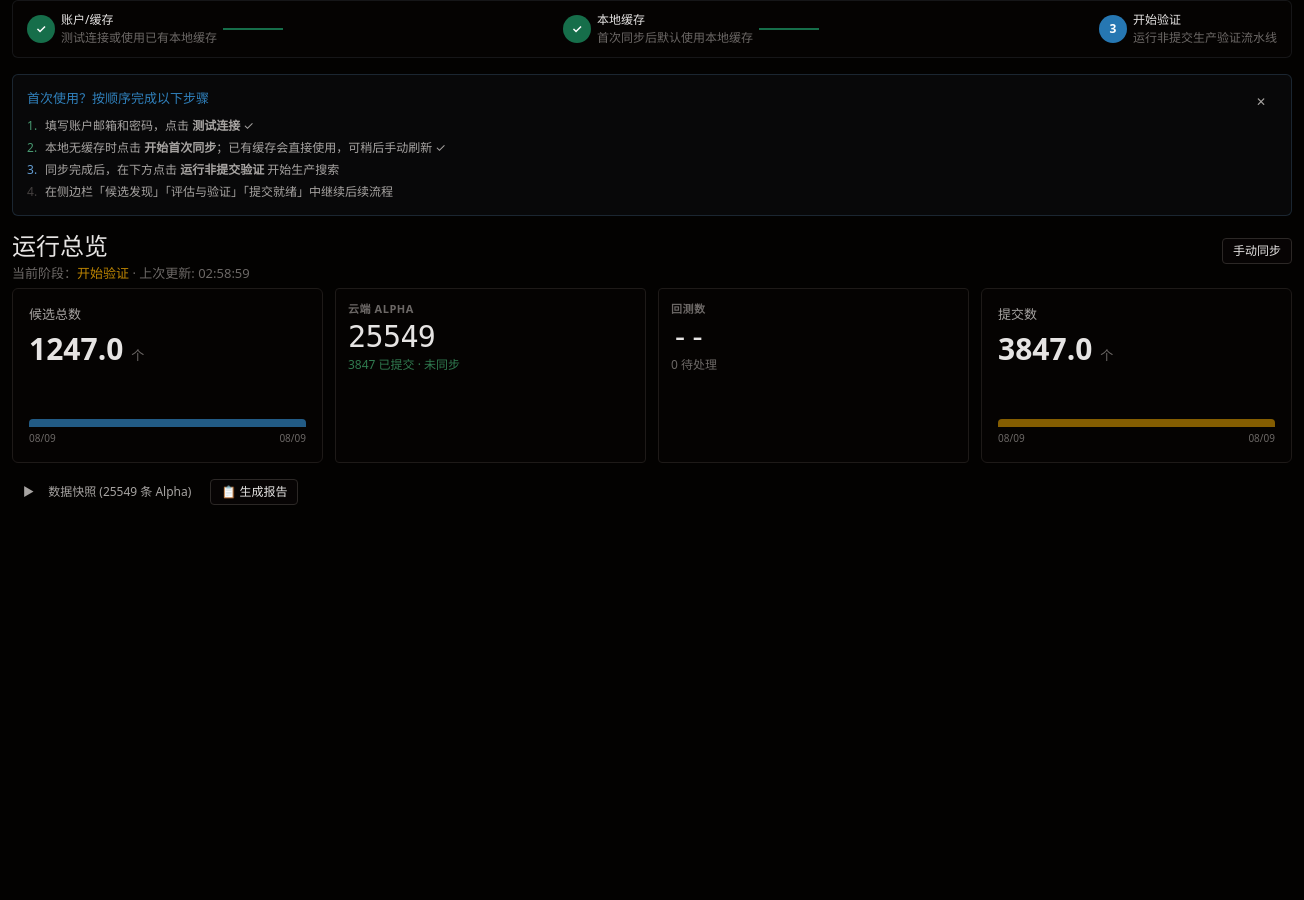
Test: Dashboard 流程集成测试 › 测试趋势图表 - 展开后显示热门家族
Expected: the heading "运行总览" is shown, [12,228,108,262]
Click the button "▶ 数据快照 (25549 条 Alpha)" at (107, 492), box [12,479,202,505]
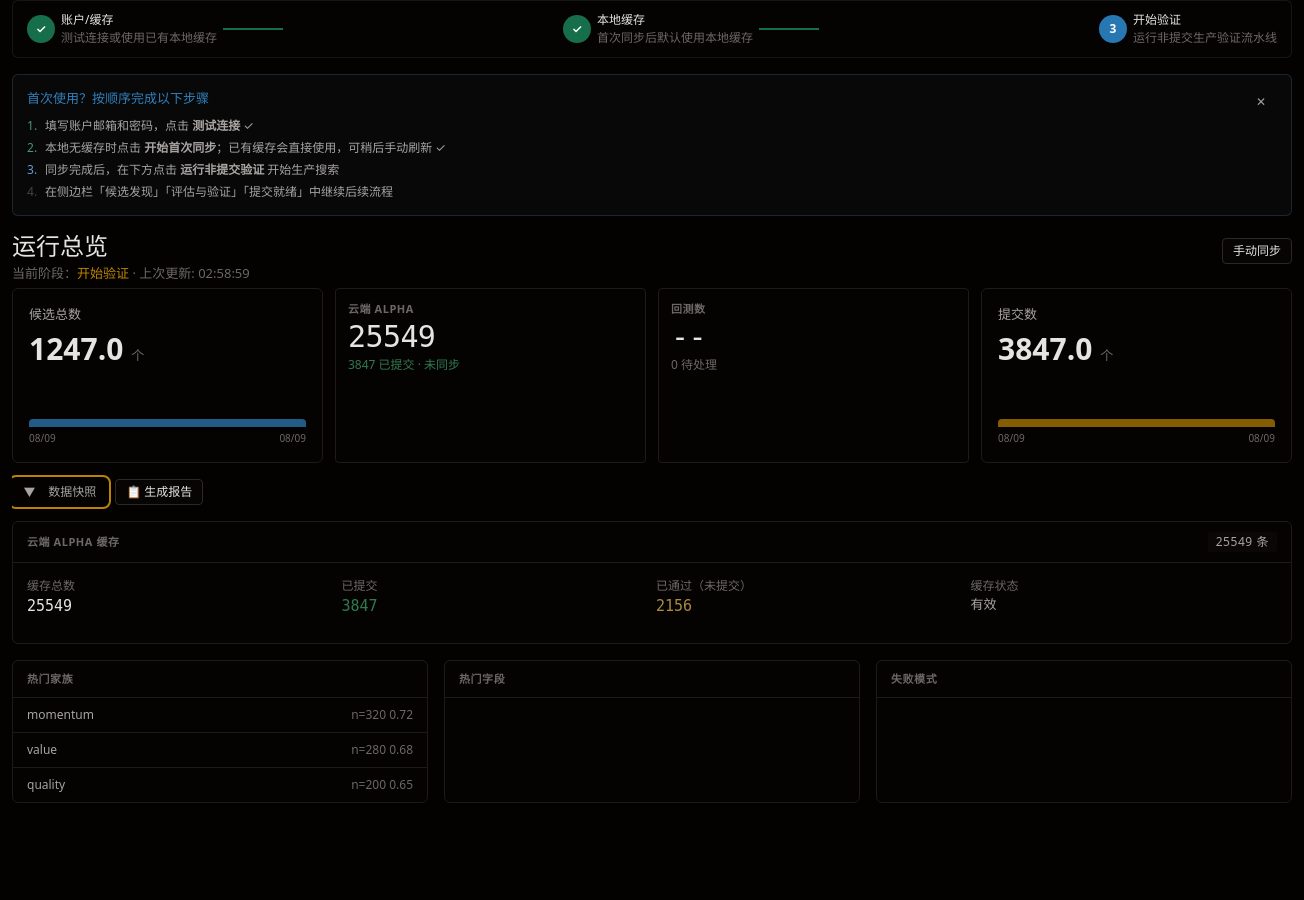
Expected: the text "热门家族" is shown, [27,671,73,687]
